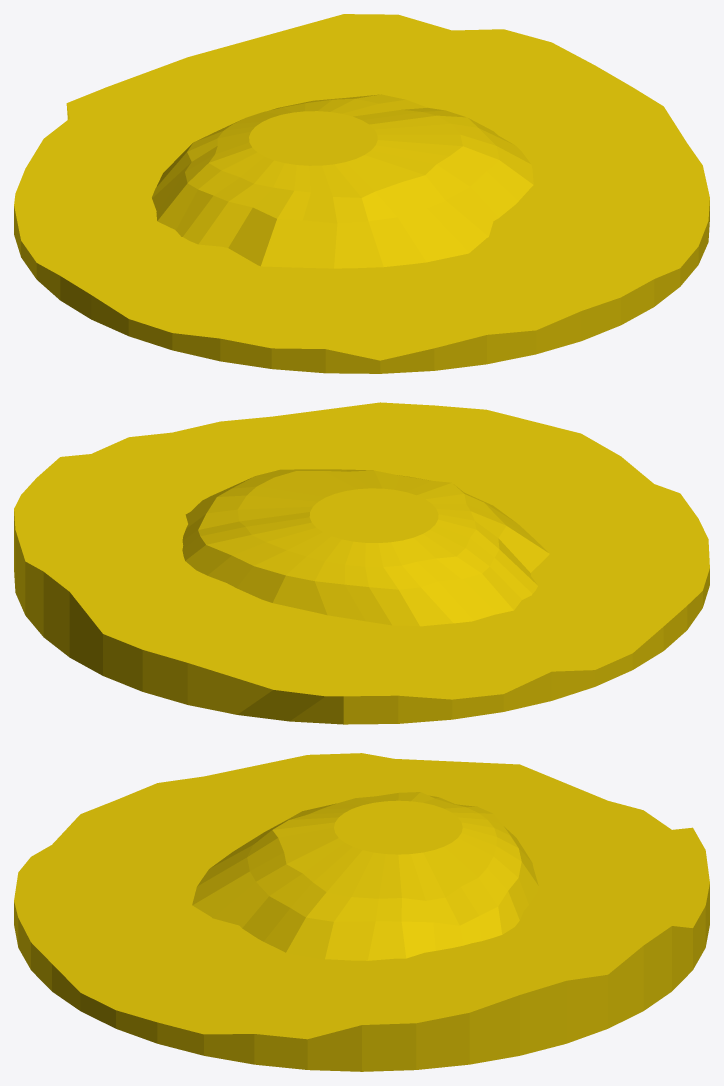
File: island.glb
The picture shows the model from 3 angles, top to bottom: view 1: azimuth 30°, elevation 25°; view 2: azimuth 150°, elevation 25°; view 3: azimuth 270°, elevation 25°; orthographic projection.
Visible parts, largest first — view 1: ground.002, ground.001; view 2: ground.002, ground.001; view 3: ground.002, ground.001.
Boxes of the visible parts, x1,y1,x2,y2 form: ground.002: (14, 14, 709, 373); ground.001: (152, 94, 533, 268); ground.002: (14, 402, 709, 724); ground.001: (182, 469, 549, 626); ground.002: (14, 753, 709, 1071); ground.001: (192, 792, 538, 960).
Bounding box in the file's own units: 30 × 3.93 × 30.
